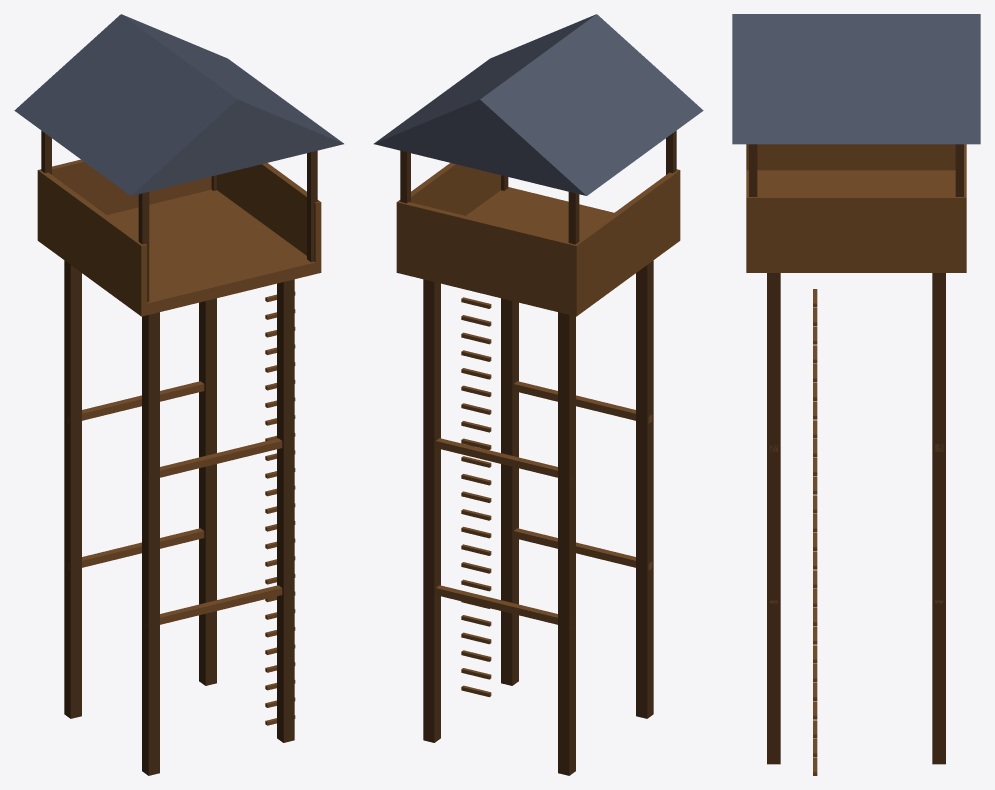
File: watch_tower.glb
3 renders of one model, left to right at view 1: azimuth 30°, elevation 25°; view 2: azimuth 150°, elevation 25°; view 3: azimuth 270°, elevation 25°, orthographic. The views are drawn at different scales.
Parts seen in each view (by area): view 1: model; view 2: model; view 3: model.
Part boxes in pixels (box(x1,y1,x2,y2)): model: box(14, 14, 343, 775); model: box(374, 14, 703, 775); model: box(732, 14, 980, 775).
Bounding box in the file's own units: 3.8 × 11.4 × 3.6.
